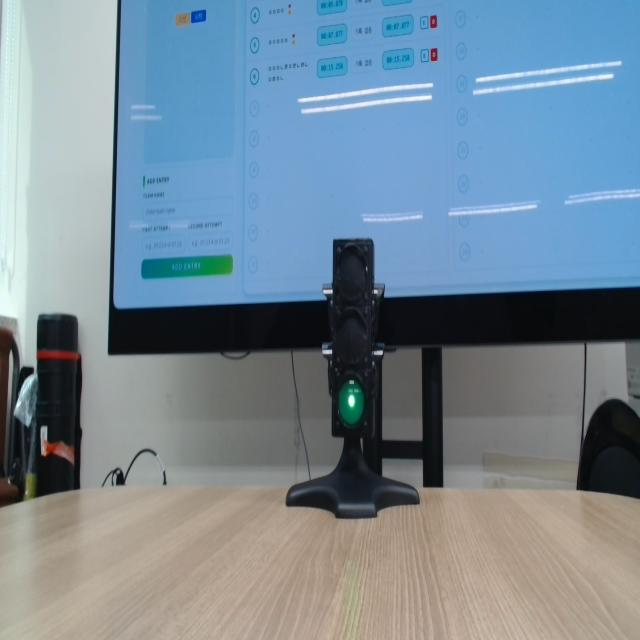green_light: (338, 380, 365, 427)
